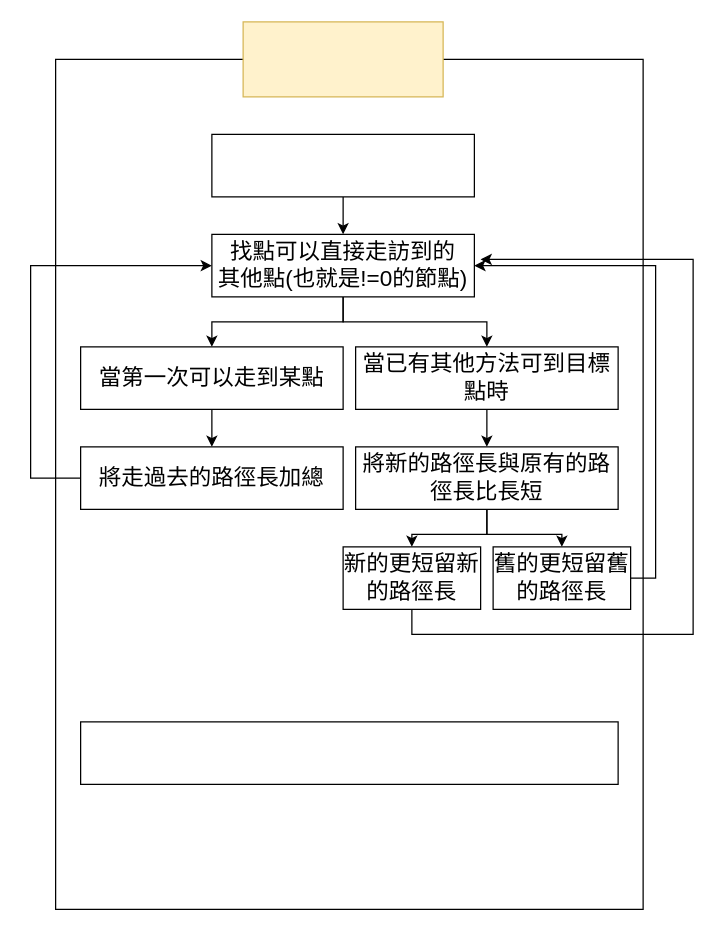
The diagram is 725 pixels wide and 931 high, and some of its shapes have lost their labels. Each missing label, with the centre of its shape:
Shortest Path (Dijkstra): the point at 342,59
將結果print出: the point at 348,752
擴展順序s_list 加入起點s: the point at 342,165
